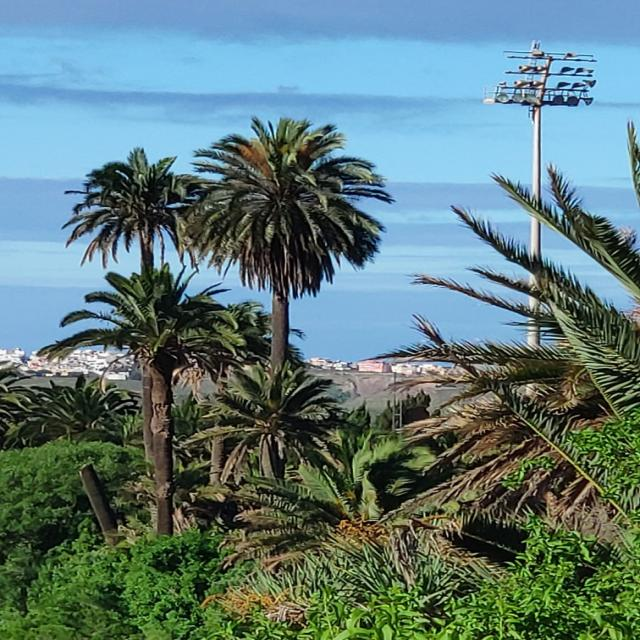Palm-Trees: (184, 114, 396, 402), (40, 264, 245, 539), (55, 145, 209, 482), (202, 363, 352, 501)
